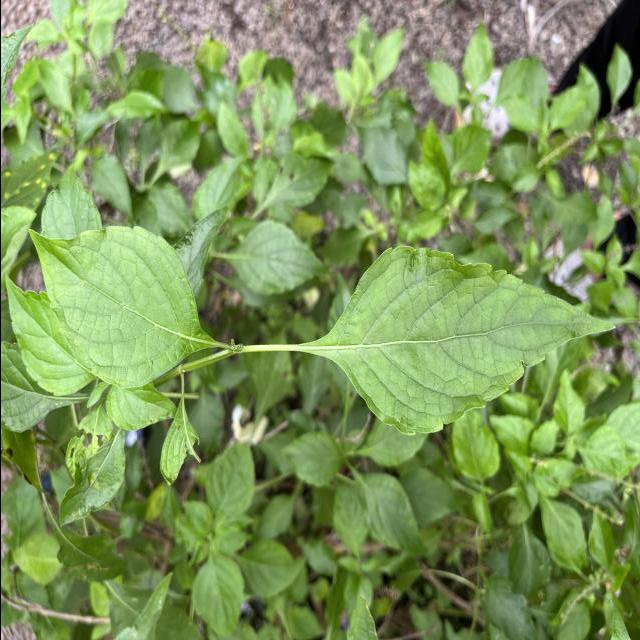Ocimum gratissimum: (284, 243, 620, 438), (21, 222, 224, 392), (1, 270, 103, 400)
